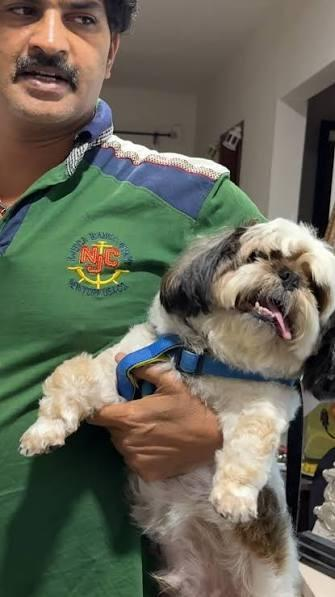adult_dog: (16, 217, 335, 597)
non-dog: (0, 0, 274, 593)
